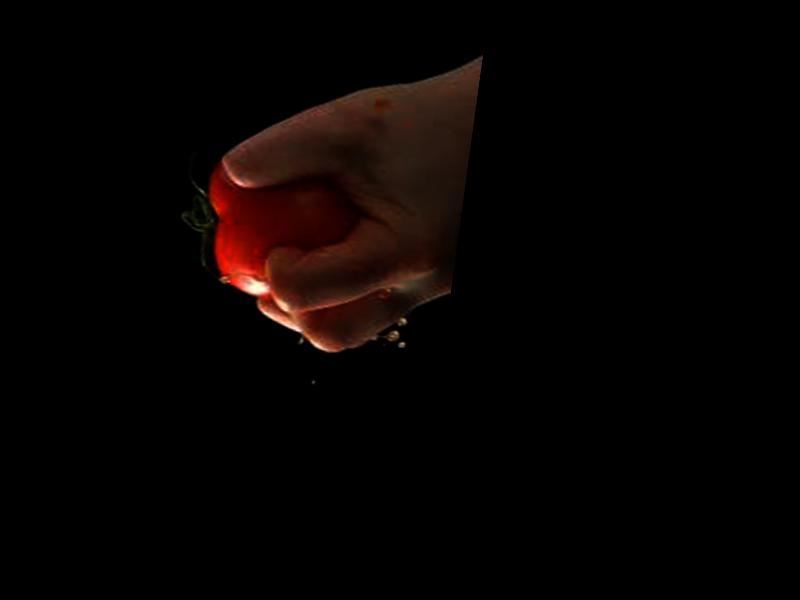Tomato: (194, 159, 362, 307)
